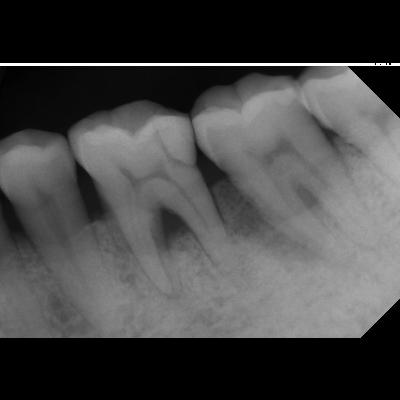tooth: (1, 126, 127, 336)
